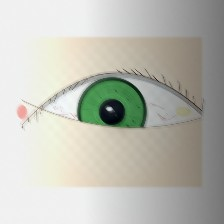pinguecula_lesion: (168, 99, 199, 124)
